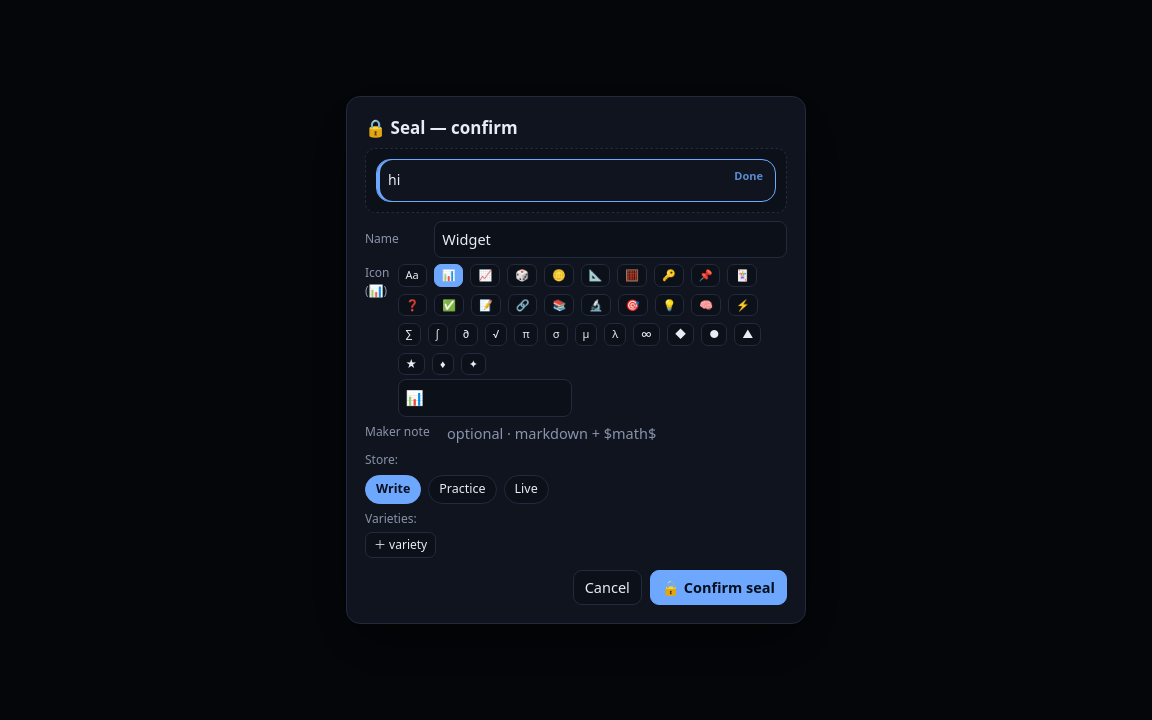
Test: SealModal › a forked bench whose name matches its source shows the conflict footer
Click the button "🔒 Confirm seal": (718, 587) [650,570,787,605]
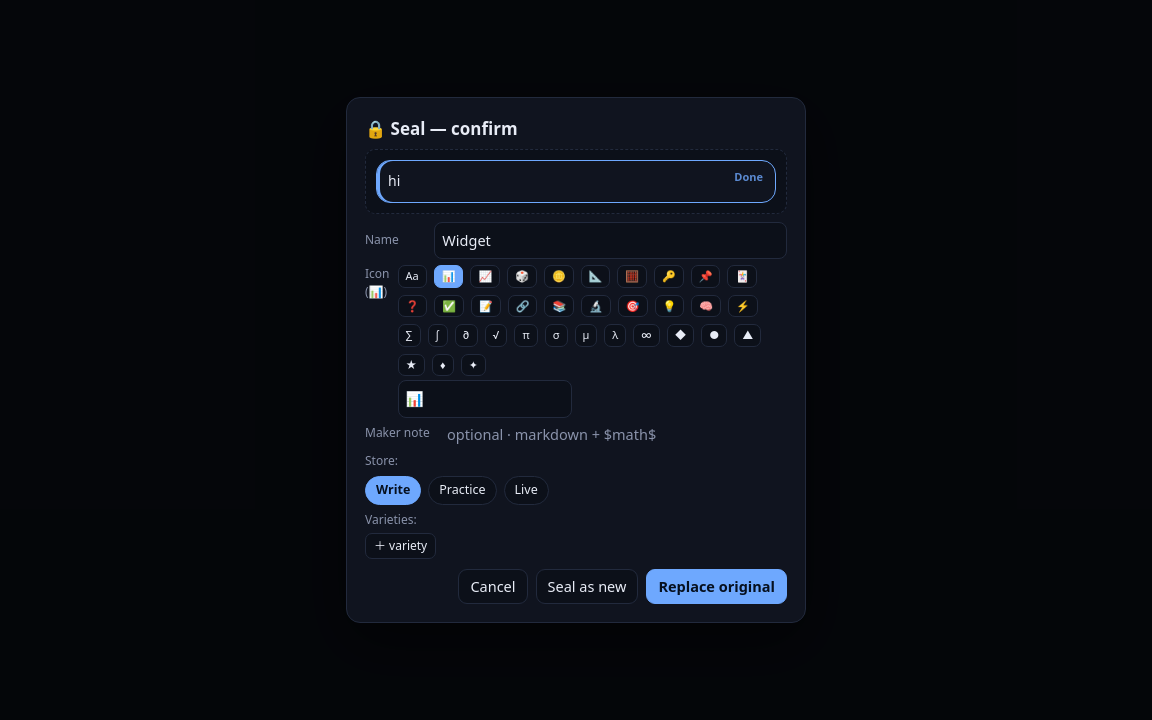
Check: the button "Seal as new" is shown, box [536,568,638,604]
Check: the button "Replace original" is shown, box [646,568,787,604]
